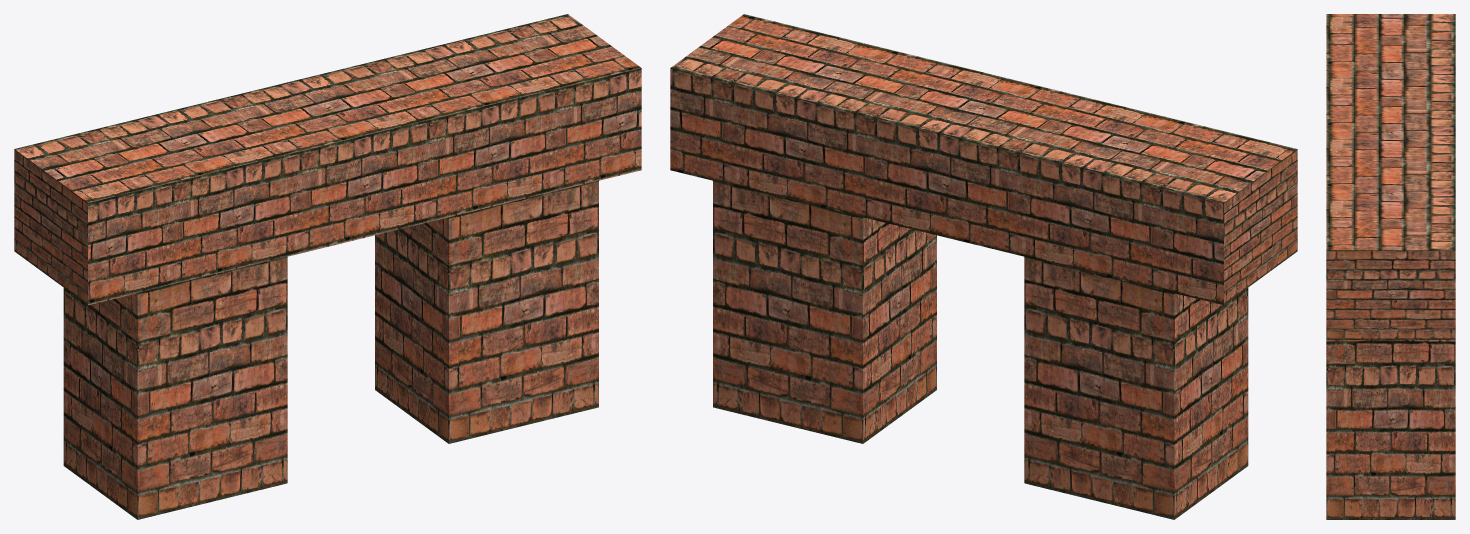
File: CongQuaMan.fbx
3 renders of one model, left to right at view 1: azimuth 30°, elevation 25°; view 2: azimuth 150°, elevation 25°; view 3: azimuth 270°, elevation 25°, orthographic. The views are drawn at different scales.
Visible parts, largest first — view 1: pCube3, pCube1, pCube2; view 2: pCube3, pCube1, pCube2; view 3: pCube3, pCube2.
Part boxes in pixels (<box>): pCube3: <box>14,14,641,305</box>; pCube1: <box>63,256,287,519</box>; pCube2: <box>375,180,598,443</box>; pCube3: <box>670,14,1297,305</box>; pCube1: <box>1024,256,1248,519</box>; pCube2: <box>713,180,936,443</box>; pCube3: <box>1326,14,1455,339</box>; pCube2: <box>1326,340,1455,519</box>.
Bounding box in the file's own units: 8.62 × 4.9 × 1.99.
2 materials, 2 textured.
